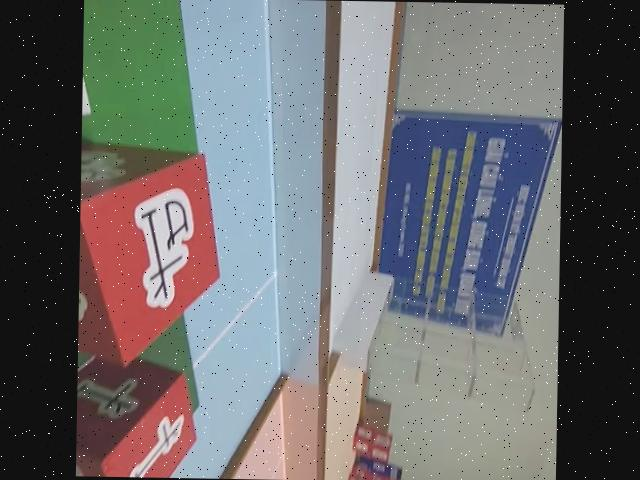R2 Real: (78, 134, 228, 369), (76, 351, 202, 478)
